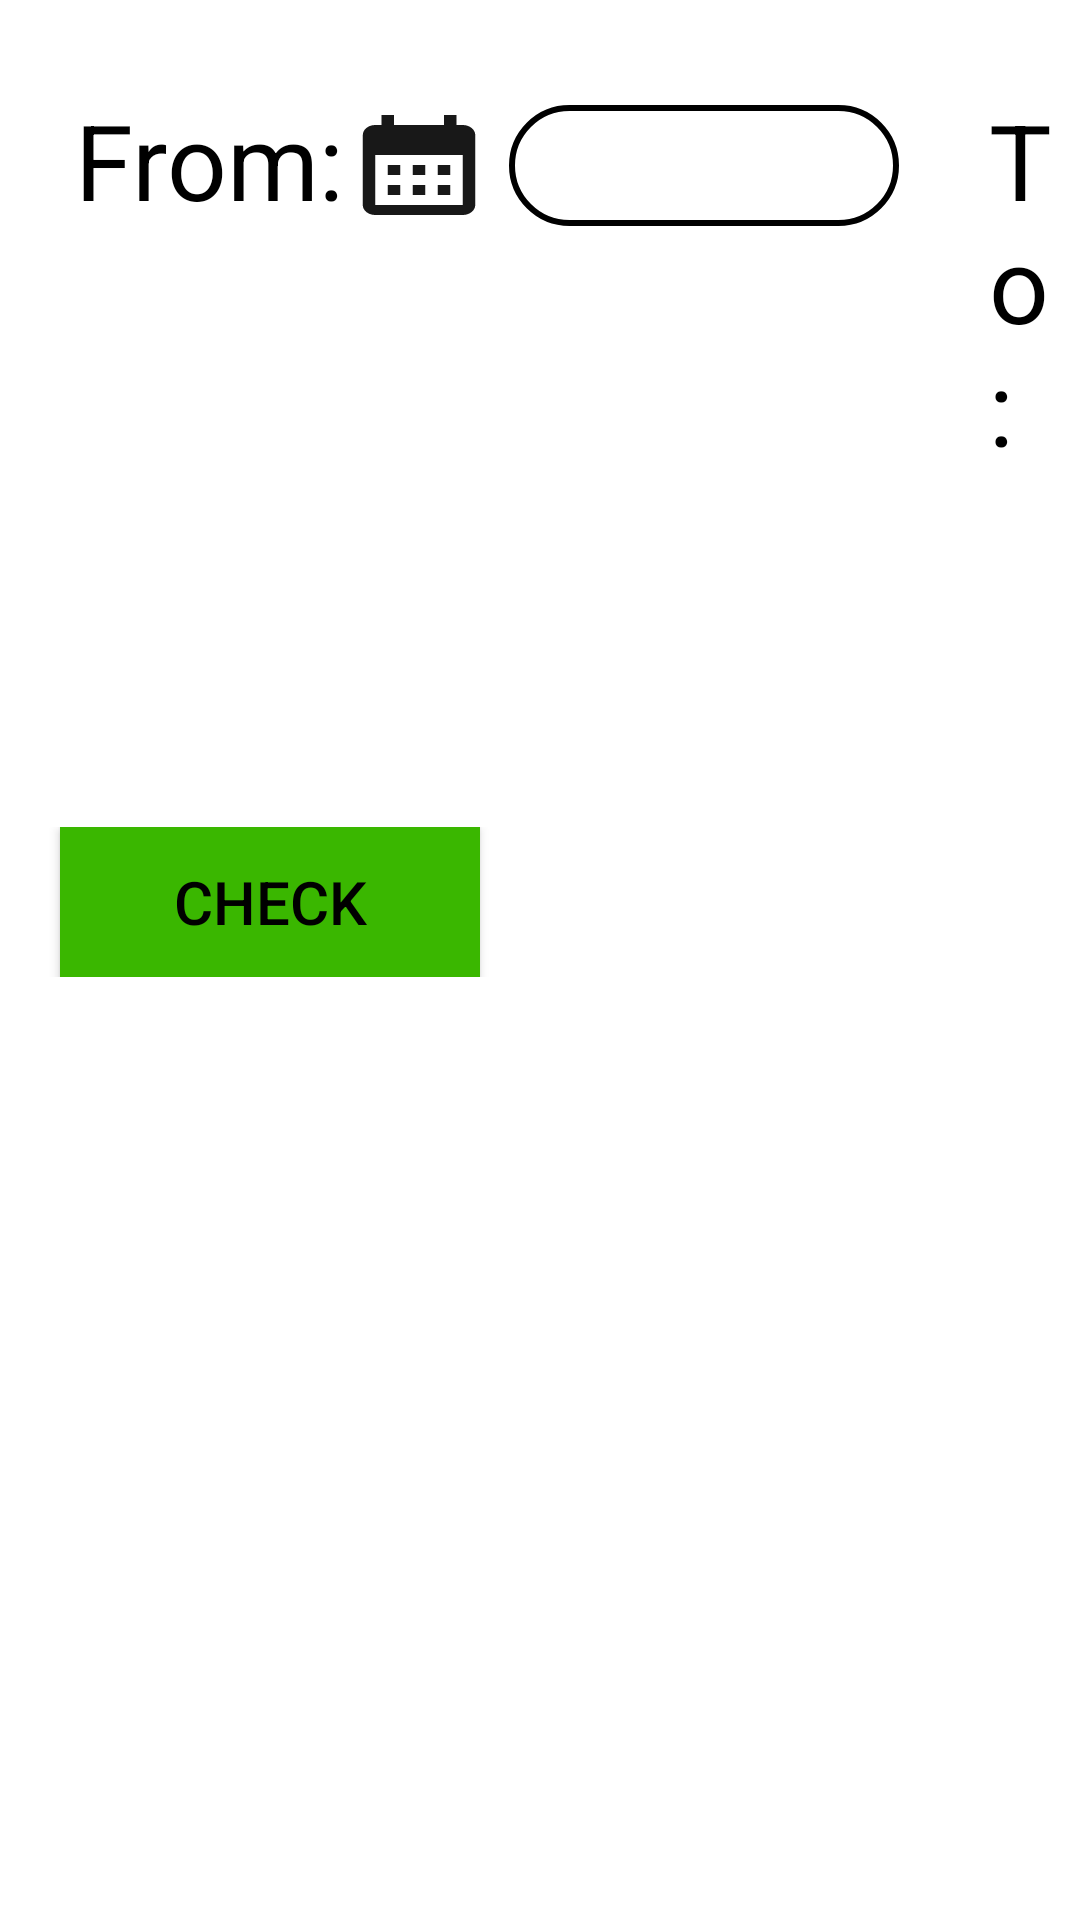

Named icons in this screenshot (1080*1920) and their bounding boxes, (x1, y1, x2, y2):
calendar: (362, 115, 476, 215)
